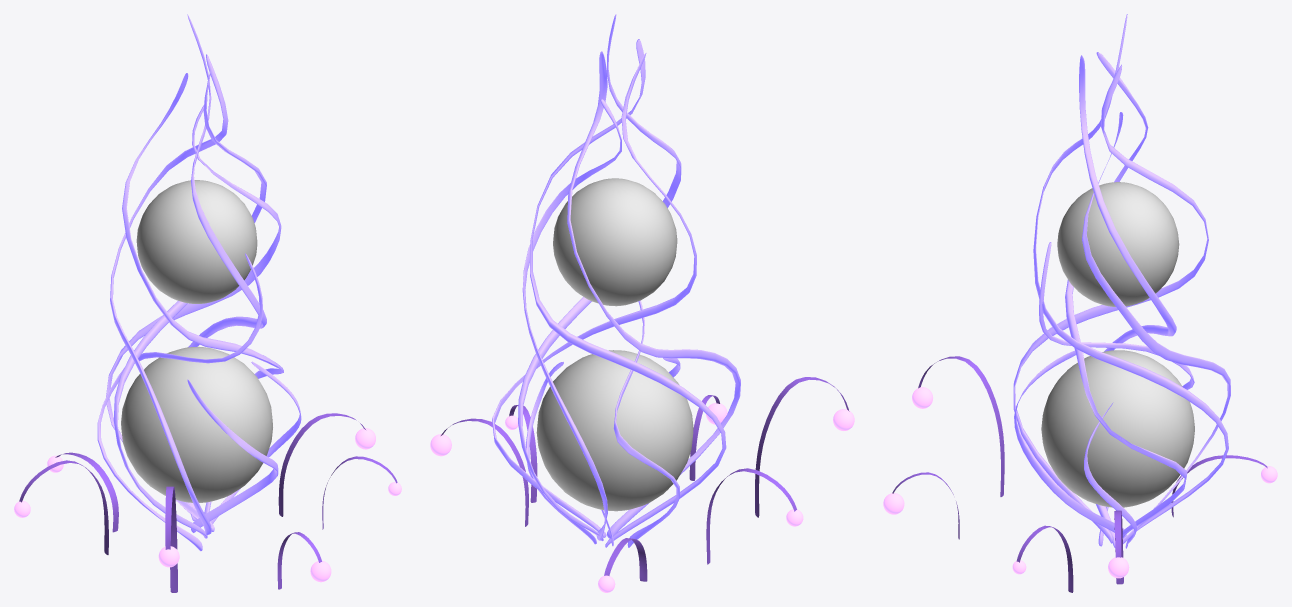
File: purple orb plant_NEW.fbx
3 renders of one model, left to right at view 1: azimuth 30°, elevation 25°; view 2: azimuth 150°, elevation 25°; view 3: azimuth 270°, elevation 25°, orthographic. The views are drawn at different scales.
Visible parts, largest first — view 1: Sphere, vines, grass, small orbs; view 2: Sphere, vines, grass, small orbs; view 3: Sphere, vines, grass, small orbs.
Boxes of the visible parts, x1,y1,x2,y2 form: Sphere: (121, 180, 272, 502); vines: (97, 14, 301, 551); grass: (19, 413, 397, 592); small orbs: (14, 428, 401, 582); Sphere: (536, 178, 693, 511); vines: (492, 14, 740, 547); grass: (441, 377, 849, 581); small orbs: (430, 402, 854, 592); Sphere: (1041, 182, 1194, 507); vines: (1013, 14, 1230, 548); grass: (892, 356, 1267, 592); small orbs: (883, 387, 1277, 578).
Bounding box in the file's own units: 5419 × 7601 × 5105.
